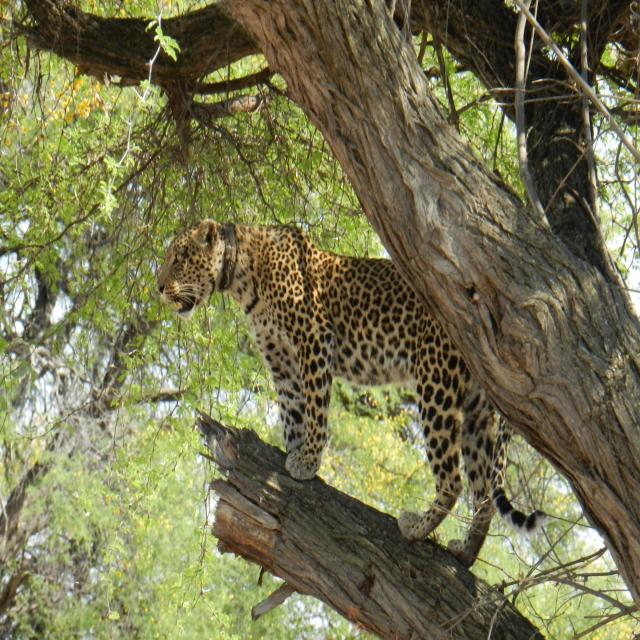Leopard: (164, 199, 545, 593)
